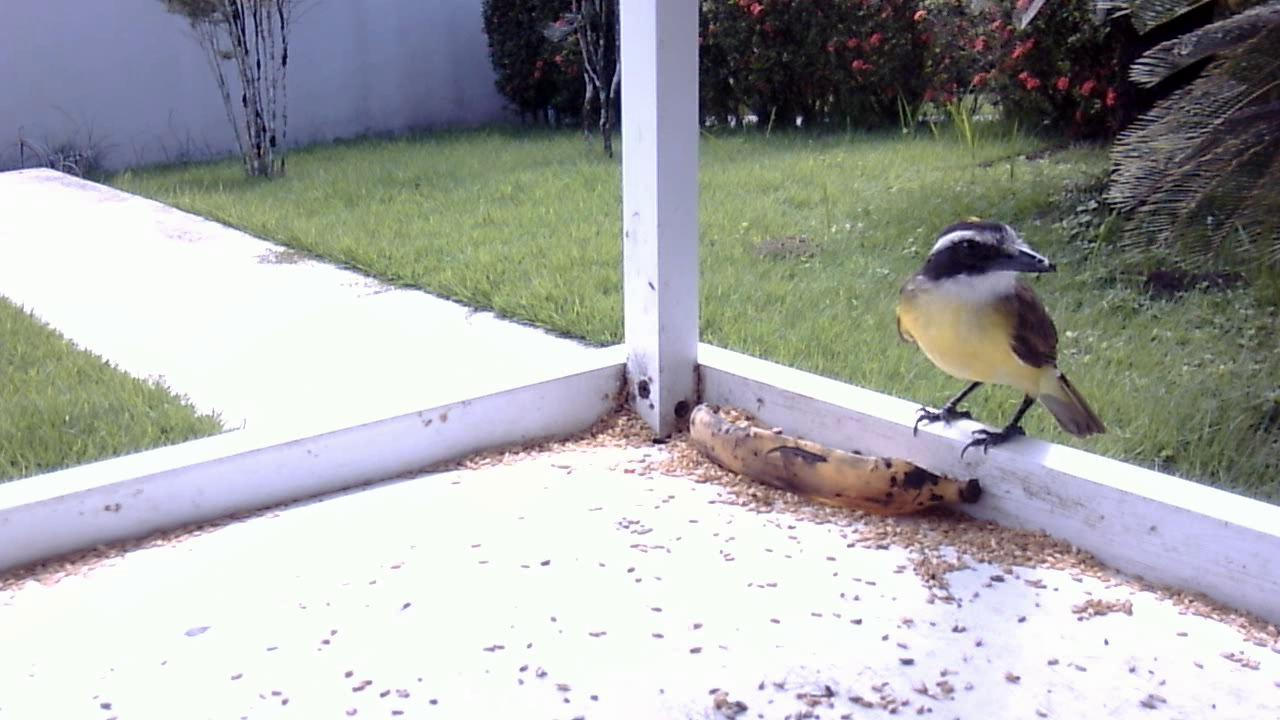bem_te_vi: (888, 208, 1112, 474)
